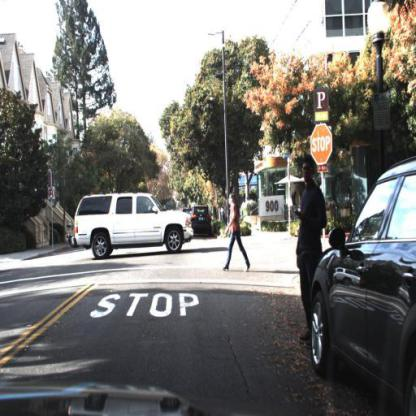car: (71, 192, 196, 261), (191, 204, 213, 240)
pedestrian: (293, 156, 327, 352), (224, 191, 249, 277)
